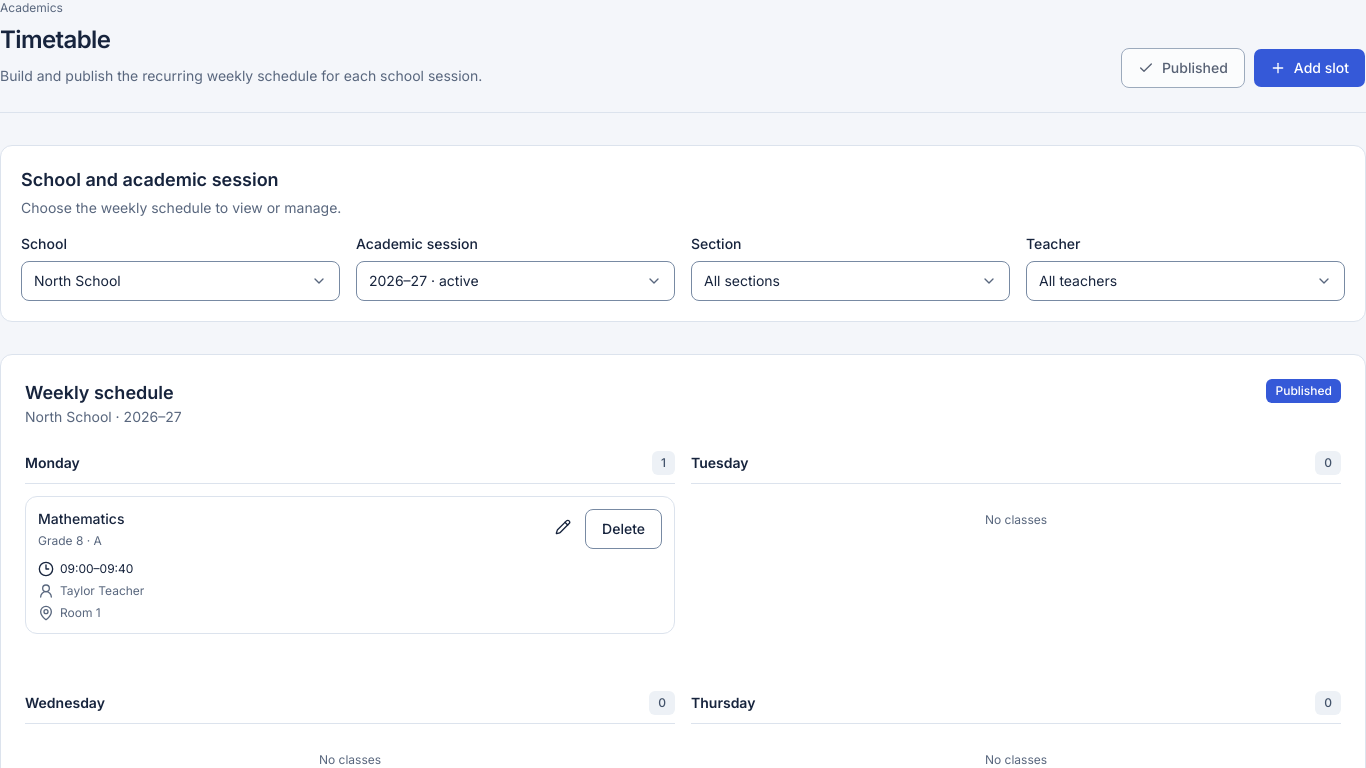
Test: timetable workspace › submits a new slot and reports a server conflict in the form
This screenshot has width=1366, height=768.
Click the button "Add slot" at [1309, 68], box left=1253, top=48, right=1365, bottom=88
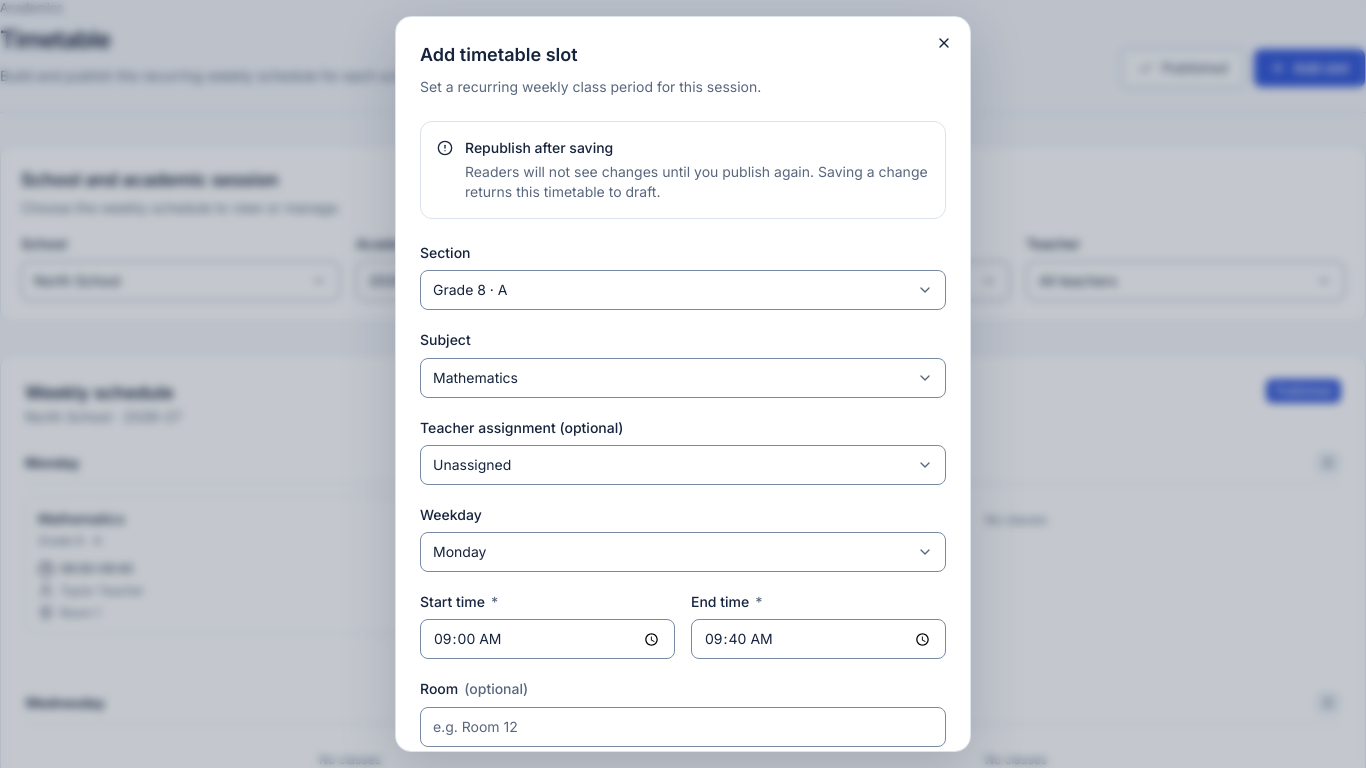
Result: the text "Readers will not see changes until you publish again" is shown at left=465, top=163, right=928, bottom=200
Replace the text in the time field labelled "Start time" with "10:00" at [548, 639], box left=420, top=619, right=675, bottom=659
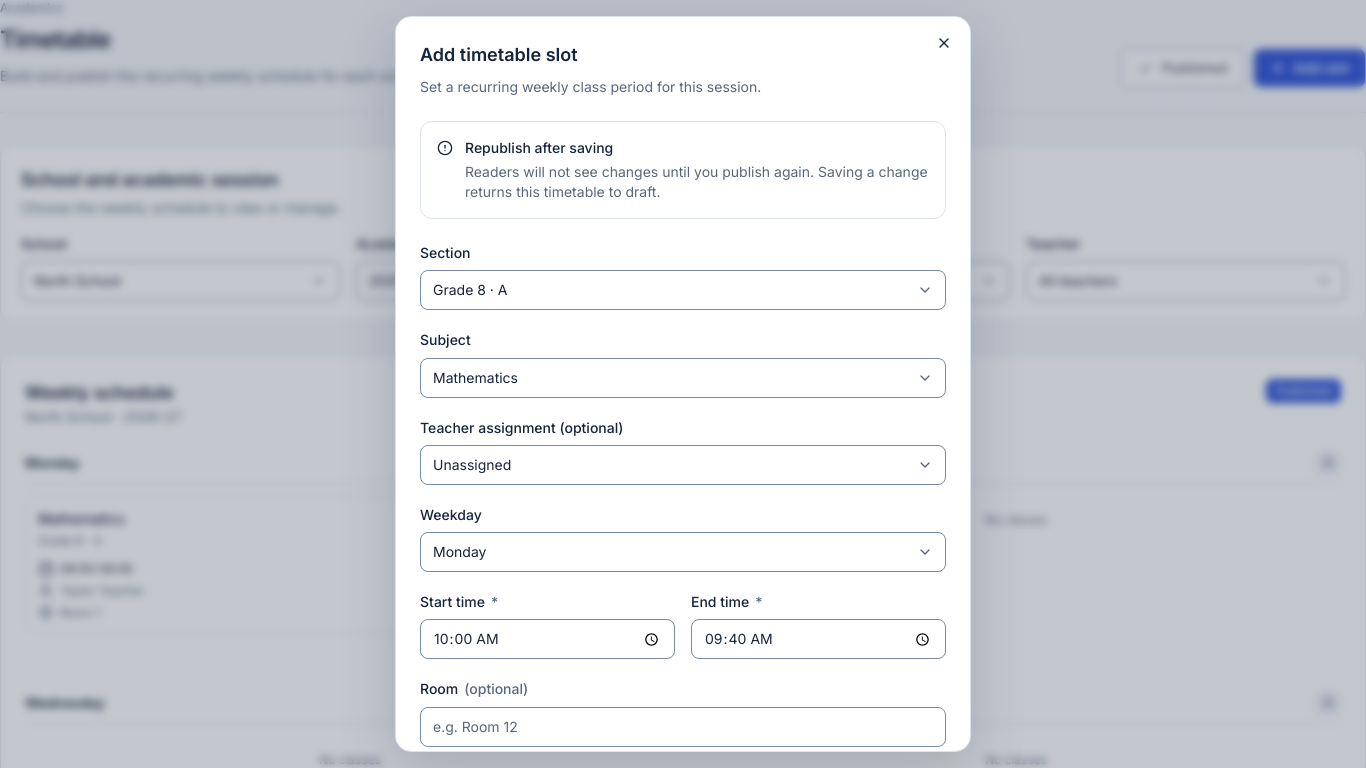
Replace the text in the time field labelled "End time" with "10:40" at [818, 639], box left=691, top=619, right=946, bottom=659
(page scrolled)
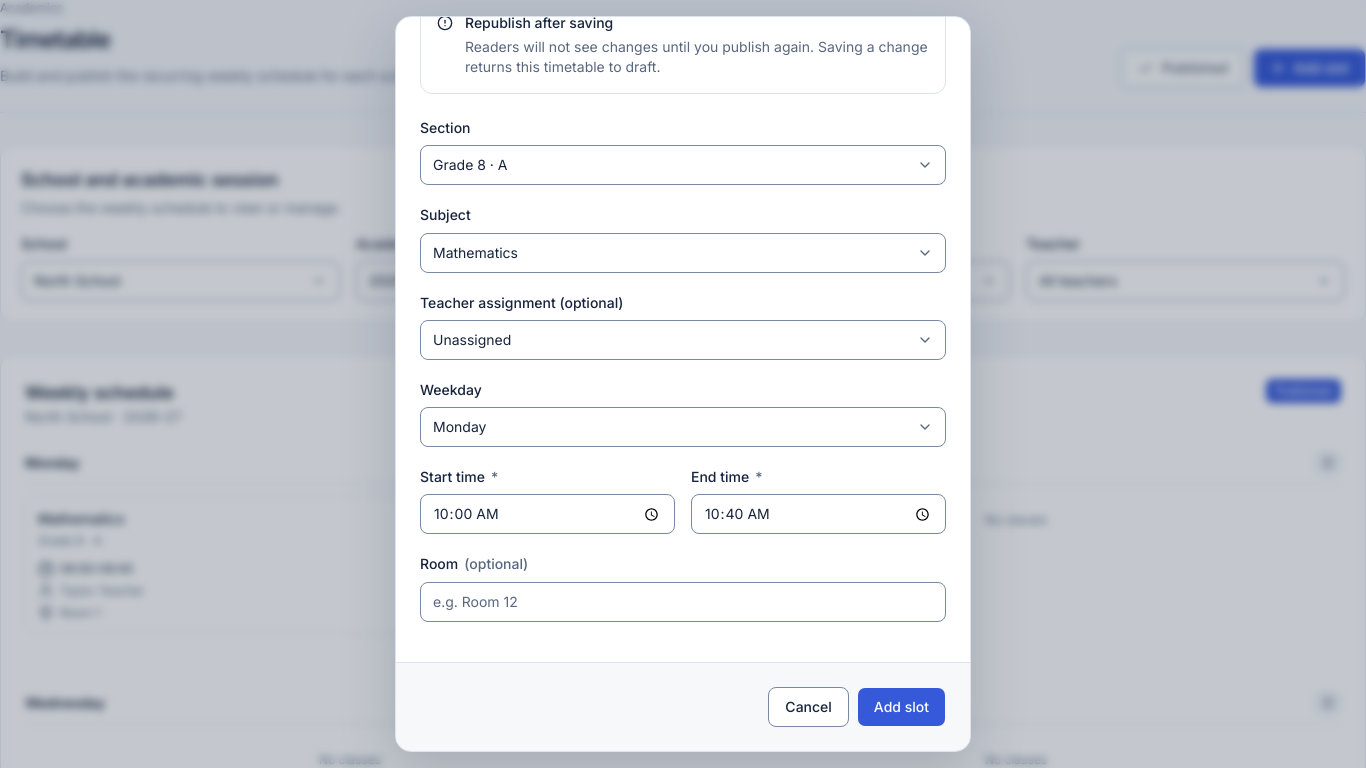
Submit the form, box left=420, top=118, right=946, bottom=726
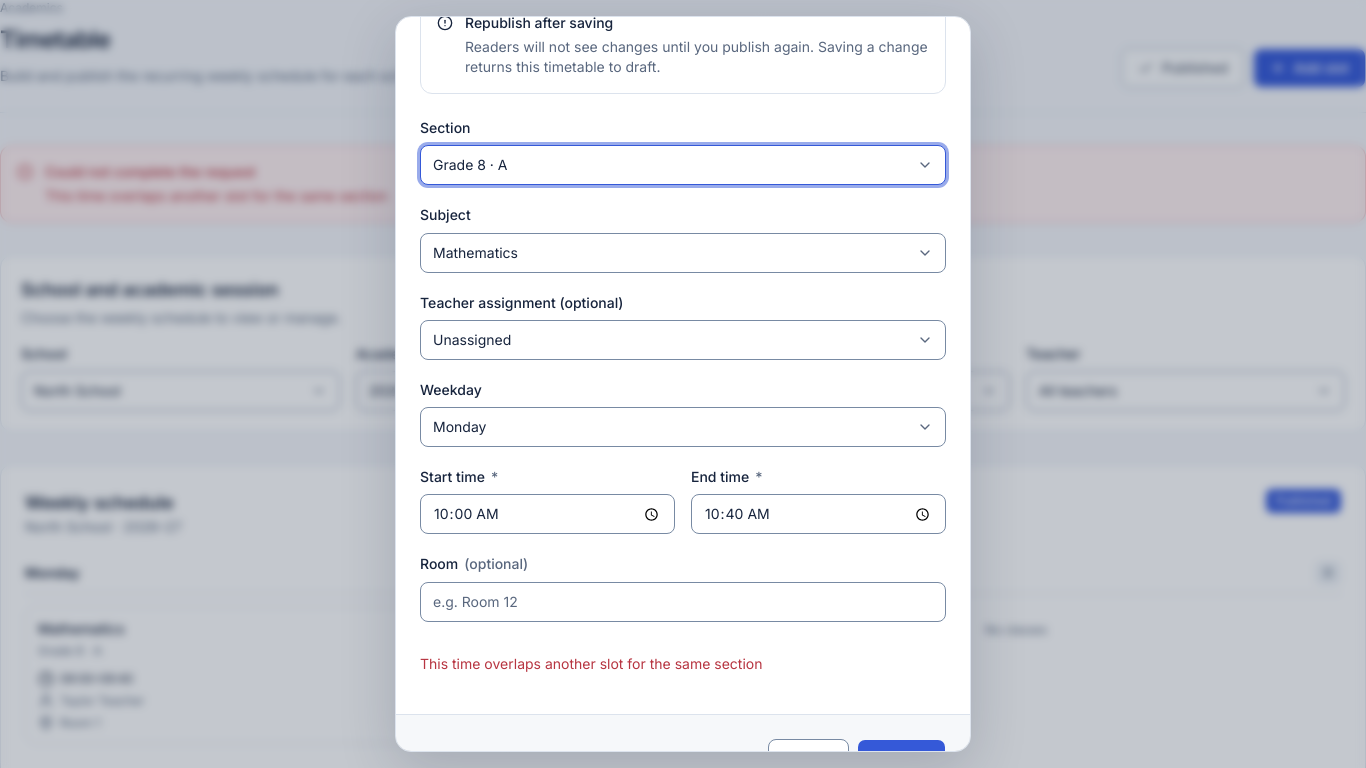
Result: the text "This time overlaps another slot for the same section" is shown at left=45, top=187, right=388, bottom=204
